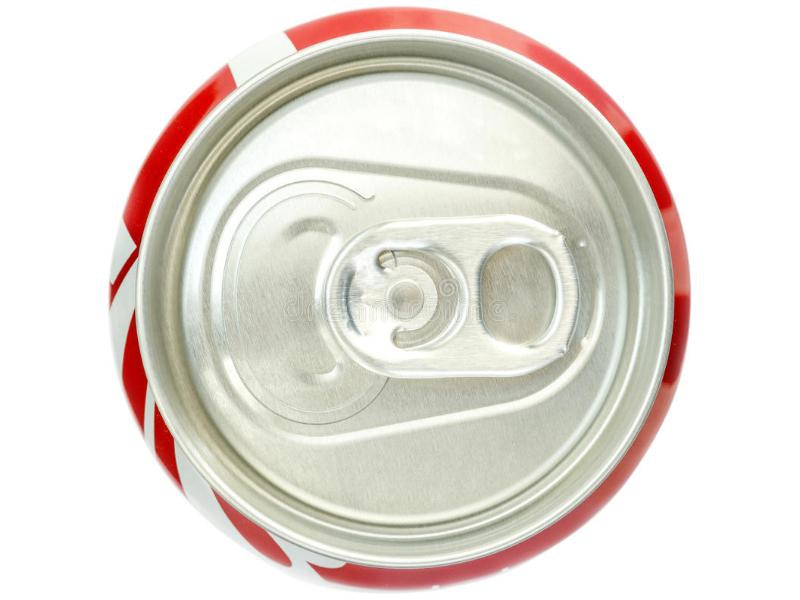can: (106, 5, 691, 589)
